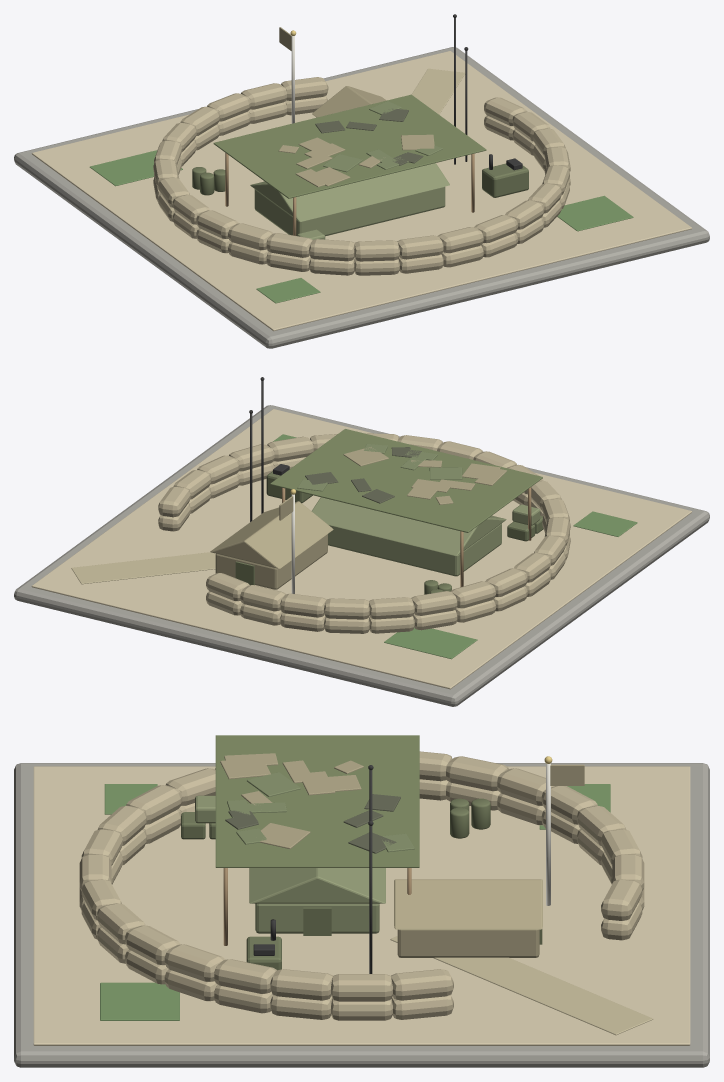
The picture shows the model from 3 angles, top to bottom: view 1: azimuth 30°, elevation 25°; view 2: azimuth 150°, elevation 25°; view 3: azimuth 270°, elevation 25°; orthographic projection. The views are drawn at different scales.
Visible parts, largest first — view 1: Cube.001, Cube, Cube.058, prism, Cube.054, Cube.003, Cube.002, Cube.005, Cube.077, prism.001, Cube.004, Cube.037 (+26 smaller); view 2: Cube.001, Cube, Cube.058, prism, prism.001, Cube.054, Cube.005, Cube.056, Cube.002, Cube.004, Cube.017, Cube.019 (+19 smaller); view 3: Cube.001, Cube, Cube.058, prism.001, Cube.005, prism, Cube.056, Cube.054, Cube.003, Cube.007, Cube.009, Cube.053 (+48 smaller).
Boxes of the visible parts, <box> form: Cube.001: <box>31,51,692,331</box>; Cube: <box>14,47,709,348</box>; Cube.058: <box>213,94,486,198</box>; prism: <box>250,163,449,221</box>; Cube.054: <box>254,186,445,236</box>; Cube.003: <box>557,195,633,231</box>; Cube.002: <box>89,150,182,186</box>; Cube.005: <box>411,68,465,114</box>; Cube.077: <box>482,163,528,197</box>; prism.001: <box>312,86,386,117</box>; Cube.004: <box>256,278,320,303</box>; Cube.037: <box>354,240,399,261</box>; Cube.001: <box>31,409,692,689</box>; Cube: <box>14,405,709,706</box>; Cube.058: <box>270,429,542,532</box>; prism: <box>311,497,506,555</box>; prism.001: <box>210,501,333,568</box>; Cube.054: <box>328,523,501,576</box>; Cube.005: <box>71,552,215,584</box>; Cube.056: <box>215,534,327,589</box>; Cube.002: <box>384,628,477,659</box>; Cube.004: <box>573,511,637,536</box>; Cube.017: <box>324,598,369,619</box>; Cube.019: <box>369,597,414,619</box>; Cube.001: <box>33,766,690,1045</box>; Cube: <box>14,763,709,1067</box>; Cube.058: <box>215,735,419,867</box>; prism.001: <box>394,879,542,929</box>; Cube.005: <box>390,936,653,1035</box>; prism: <box>249,868,385,903</box>; Cube.056: <box>397,929,539,957</box>; Cube.054: <box>255,903,379,933</box>; Cube.003: <box>100,982,179,1020</box>; Cube.007: <box>331,974,392,1001</box>; Cube.009: <box>391,969,453,1000</box>; Cube.053: <box>270,969,332,1000</box>.
Size of the model in its own units: 3.92 by 1.38 by 3.92.
